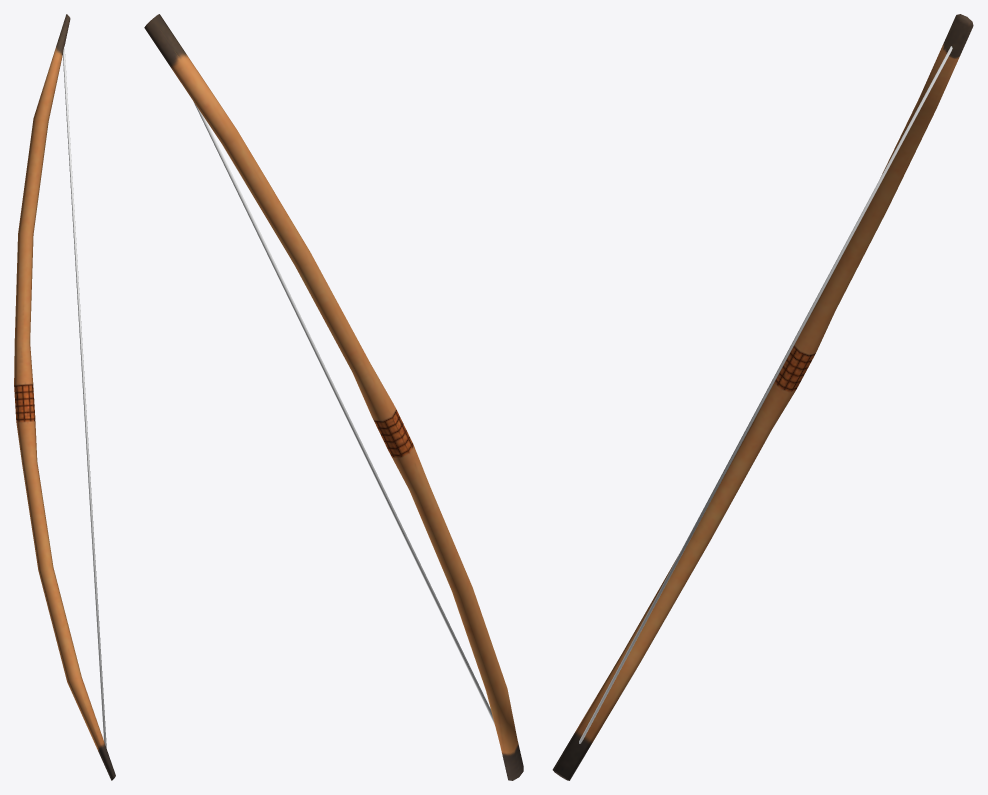
The model's file is Bow.fbx.
3 views of the same model, side by side, from view 1: azimuth 30°, elevation 25°; view 2: azimuth 150°, elevation 25°; view 3: azimuth 270°, elevation 25° (orthographic). The views are drawn at different scales.
Parts seen in each view (by area): view 1: Cylinder, Cylinder_001; view 2: Cylinder, Cylinder_001; view 3: Cylinder, Cylinder_001.
Boxes of the visible parts, x1=… form: Cylinder: x1=14, y1=14, x2=115, y2=780; Cylinder_001: x1=63, y1=46, x2=106, y2=747; Cylinder: x1=144, y1=14, x2=523, y2=780; Cylinder_001: x1=194, y1=102, x2=494, y2=724; Cylinder: x1=552, y1=14, x2=973, y2=780; Cylinder_001: x1=579, y1=46, x2=952, y2=743.
Size of the model in its own units: 7.94 by 36.55 by 16.72.
